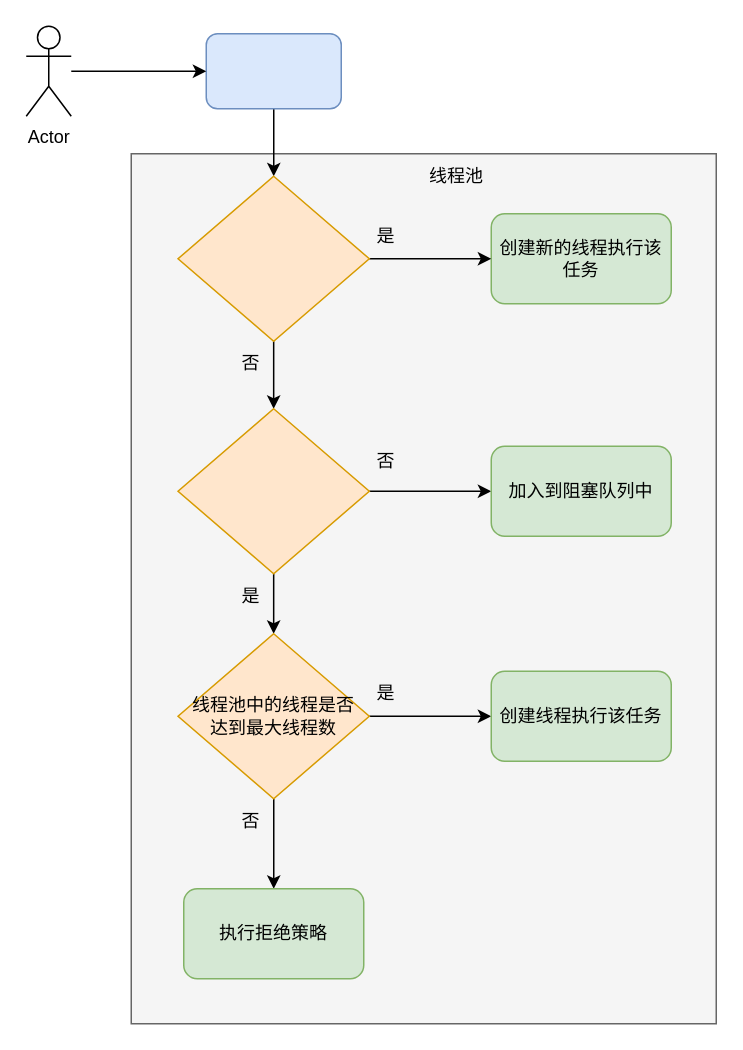
Image size: 743x1050. Some labels were removed from this diagram. Here are the shapes that lost their labels. From the top down, the centre of each, then its label:
pixel 273 70: 提交任务
pixel 273 258: 当前线程池中的线程是否小于核心线程数
pixel 273 490: 阻塞队列是否满
